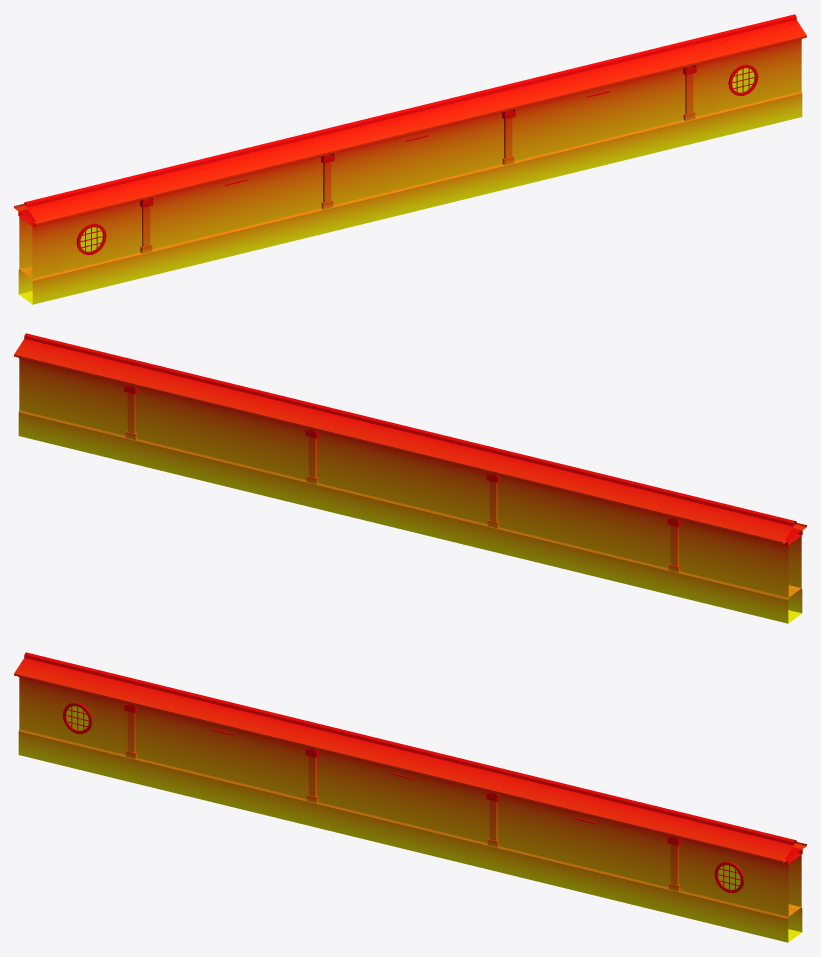
Rendered from SM_Env_WallN.fbx.
3 renders of one model, top to bottom at view 1: azimuth 30°, elevation 25°; view 2: azimuth 150°, elevation 25°; view 3: azimuth 330°, elevation 25°, orthographic.
Parts seen in each view (by area): view 1: SM_Env_WallN; view 2: SM_Env_WallN; view 3: SM_Env_WallN.
Part boxes in pixels (x1,y1,x2,y2): SM_Env_WallN: [14, 14, 806, 304]; SM_Env_WallN: [14, 333, 806, 623]; SM_Env_WallN: [14, 652, 806, 942].
Bounding box in the file's own units: 34 × 4.12 × 1.8.
